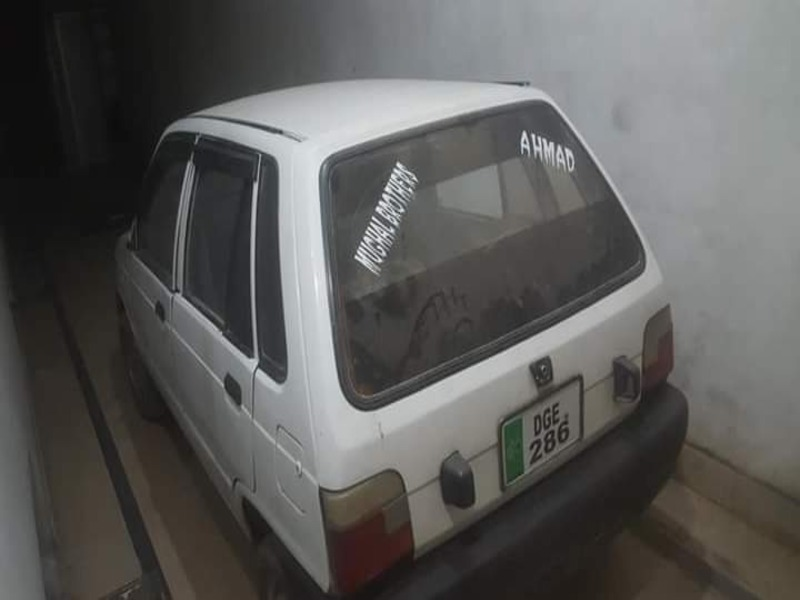License Plate: (497, 377, 585, 483)
